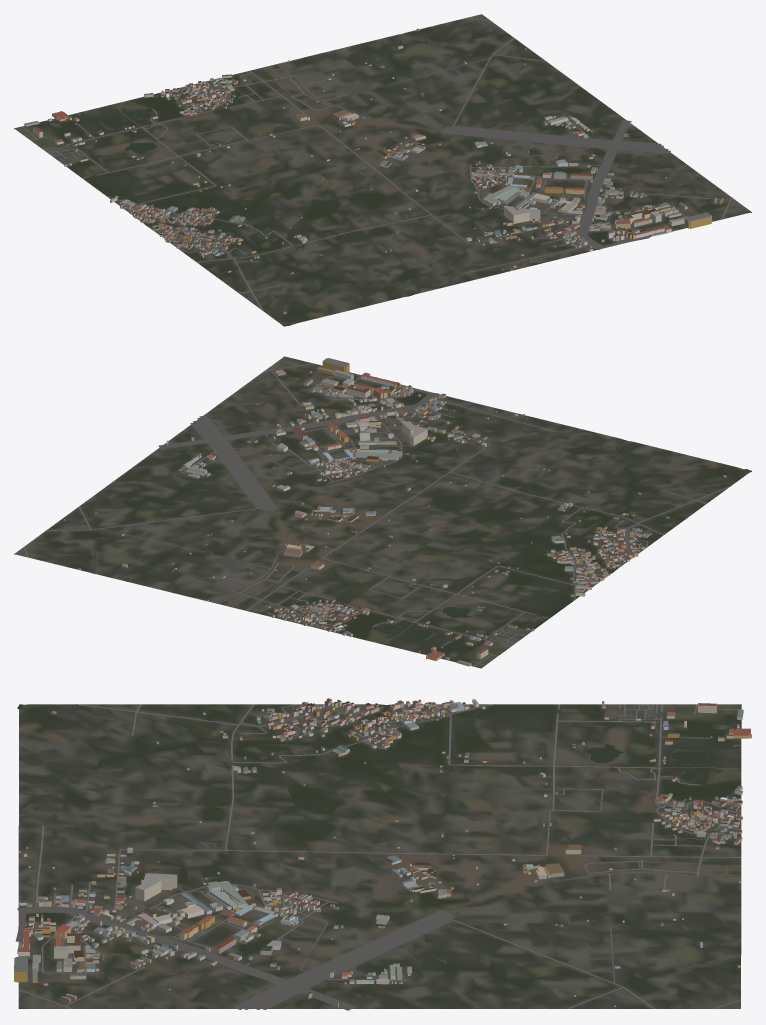
3 renders of one model, top to bottom at view 1: azimuth 30°, elevation 25°; view 2: azimuth 150°, elevation 25°; view 3: azimuth 270°, elevation 25°, orthographic. The views are drawn at different scales.
Visible parts, largest first — view 1: ground, buildings, roads, water; view 2: ground, buildings, roads, water; view 3: ground, buildings, roads, water.
Part boxes in pixels (x1,y1,x2,y2): ground: (14,14,751,326); buildings: (24,29,723,313); roads: (22,17,732,326); water: (100,34,470,325); ground: (14,356,751,668); buildings: (63,358,726,666); roads: (24,363,751,666); water: (94,440,751,640); ground: (18,704,741,1008); buildings: (14,698,751,1007); roads: (15,704,741,1010); water: (17,704,740,978).
Size of the model in its own units: 1420 by 28.87 by 1432.
